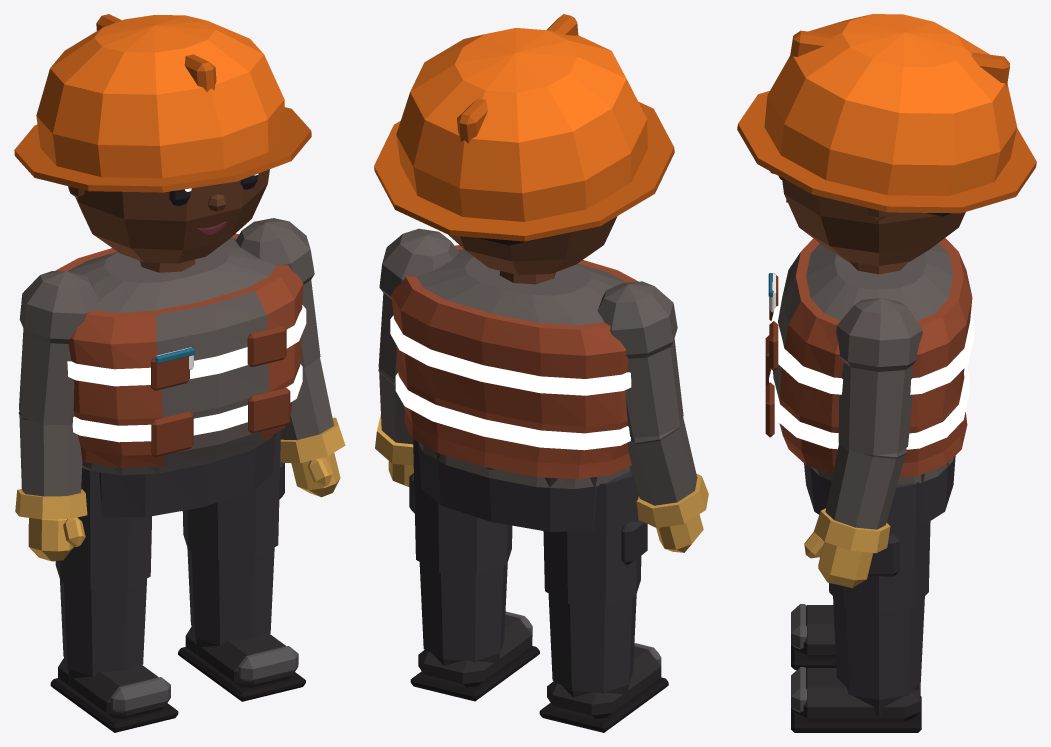
File: auf_emb.glb
3 views of the same model, side by side, from view 1: azimuth 30°, elevation 25°; view 2: azimuth 150°, elevation 25°; view 3: azimuth 270°, elevation 25° (orthographic).
Parts seen in each view (by area): view 1: kopfbedeckung, weste, arm_r, bein_r, bein_l, kopf, torso, arm_l, becken, schuh_l, taschen, schuh_r (+4 smaller); view 2: kopfbedeckung, weste, bein_r, arm_r, bein_l, torso, signalstreifen, becken, arm_l, schuh_r, schuh_l, kopf (+1 smaller); view 3: kopfbedeckung, arm_l, weste, bein_l, kopf, torso, schuh_l, signalstreifen, schuh_r, becken, hand_l, taschen.
Part boxes in pixels (bbox=[...]): kopfbedeckung: bbox=[14, 14, 311, 192]; weste: bbox=[55, 233, 303, 467]; arm_r: bbox=[15, 271, 98, 519]; bein_r: bbox=[55, 465, 151, 676]; bein_l: bbox=[182, 430, 284, 645]; kopf: bbox=[68, 169, 269, 263]; torso: bbox=[67, 238, 276, 475]; arm_l: bbox=[235, 218, 345, 463]; becken: bbox=[99, 433, 275, 517]; schuh_l: bbox=[178, 627, 305, 701]; taschen: bbox=[151, 325, 290, 457]; schuh_r: bbox=[50, 658, 178, 732]; kopfbedeckung: bbox=[374, 14, 674, 241]; weste: bbox=[391, 245, 638, 479]; bein_r: bbox=[543, 470, 647, 692]; arm_r: bbox=[597, 281, 708, 527]; bein_l: bbox=[409, 439, 512, 661]; torso: bbox=[416, 249, 630, 488]; signalstreifen: bbox=[390, 315, 631, 450]; becken: bbox=[418, 442, 597, 531]; arm_l: bbox=[375, 228, 459, 465]; schuh_r: bbox=[539, 643, 668, 732]; schuh_l: bbox=[410, 611, 539, 701]; kopf: bbox=[449, 216, 617, 274]; kopfbedeckung: bbox=[737, 14, 1036, 213]; arm_l: bbox=[814, 298, 922, 553]; weste: bbox=[773, 238, 972, 477]; bein_l: bbox=[829, 482, 930, 699]; kopf: bbox=[782, 180, 965, 265]; torso: bbox=[806, 243, 953, 484]; schuh_l: bbox=[791, 667, 921, 732]; signalstreifen: bbox=[769, 289, 974, 449]; schuh_r: bbox=[791, 604, 836, 669]; becken: bbox=[804, 456, 955, 526]; hand_l: bbox=[804, 532, 873, 587]; taschen: bbox=[765, 273, 778, 437].
Size of the model in its own units: 0.0124 by 0.0237 by 0.00983.
